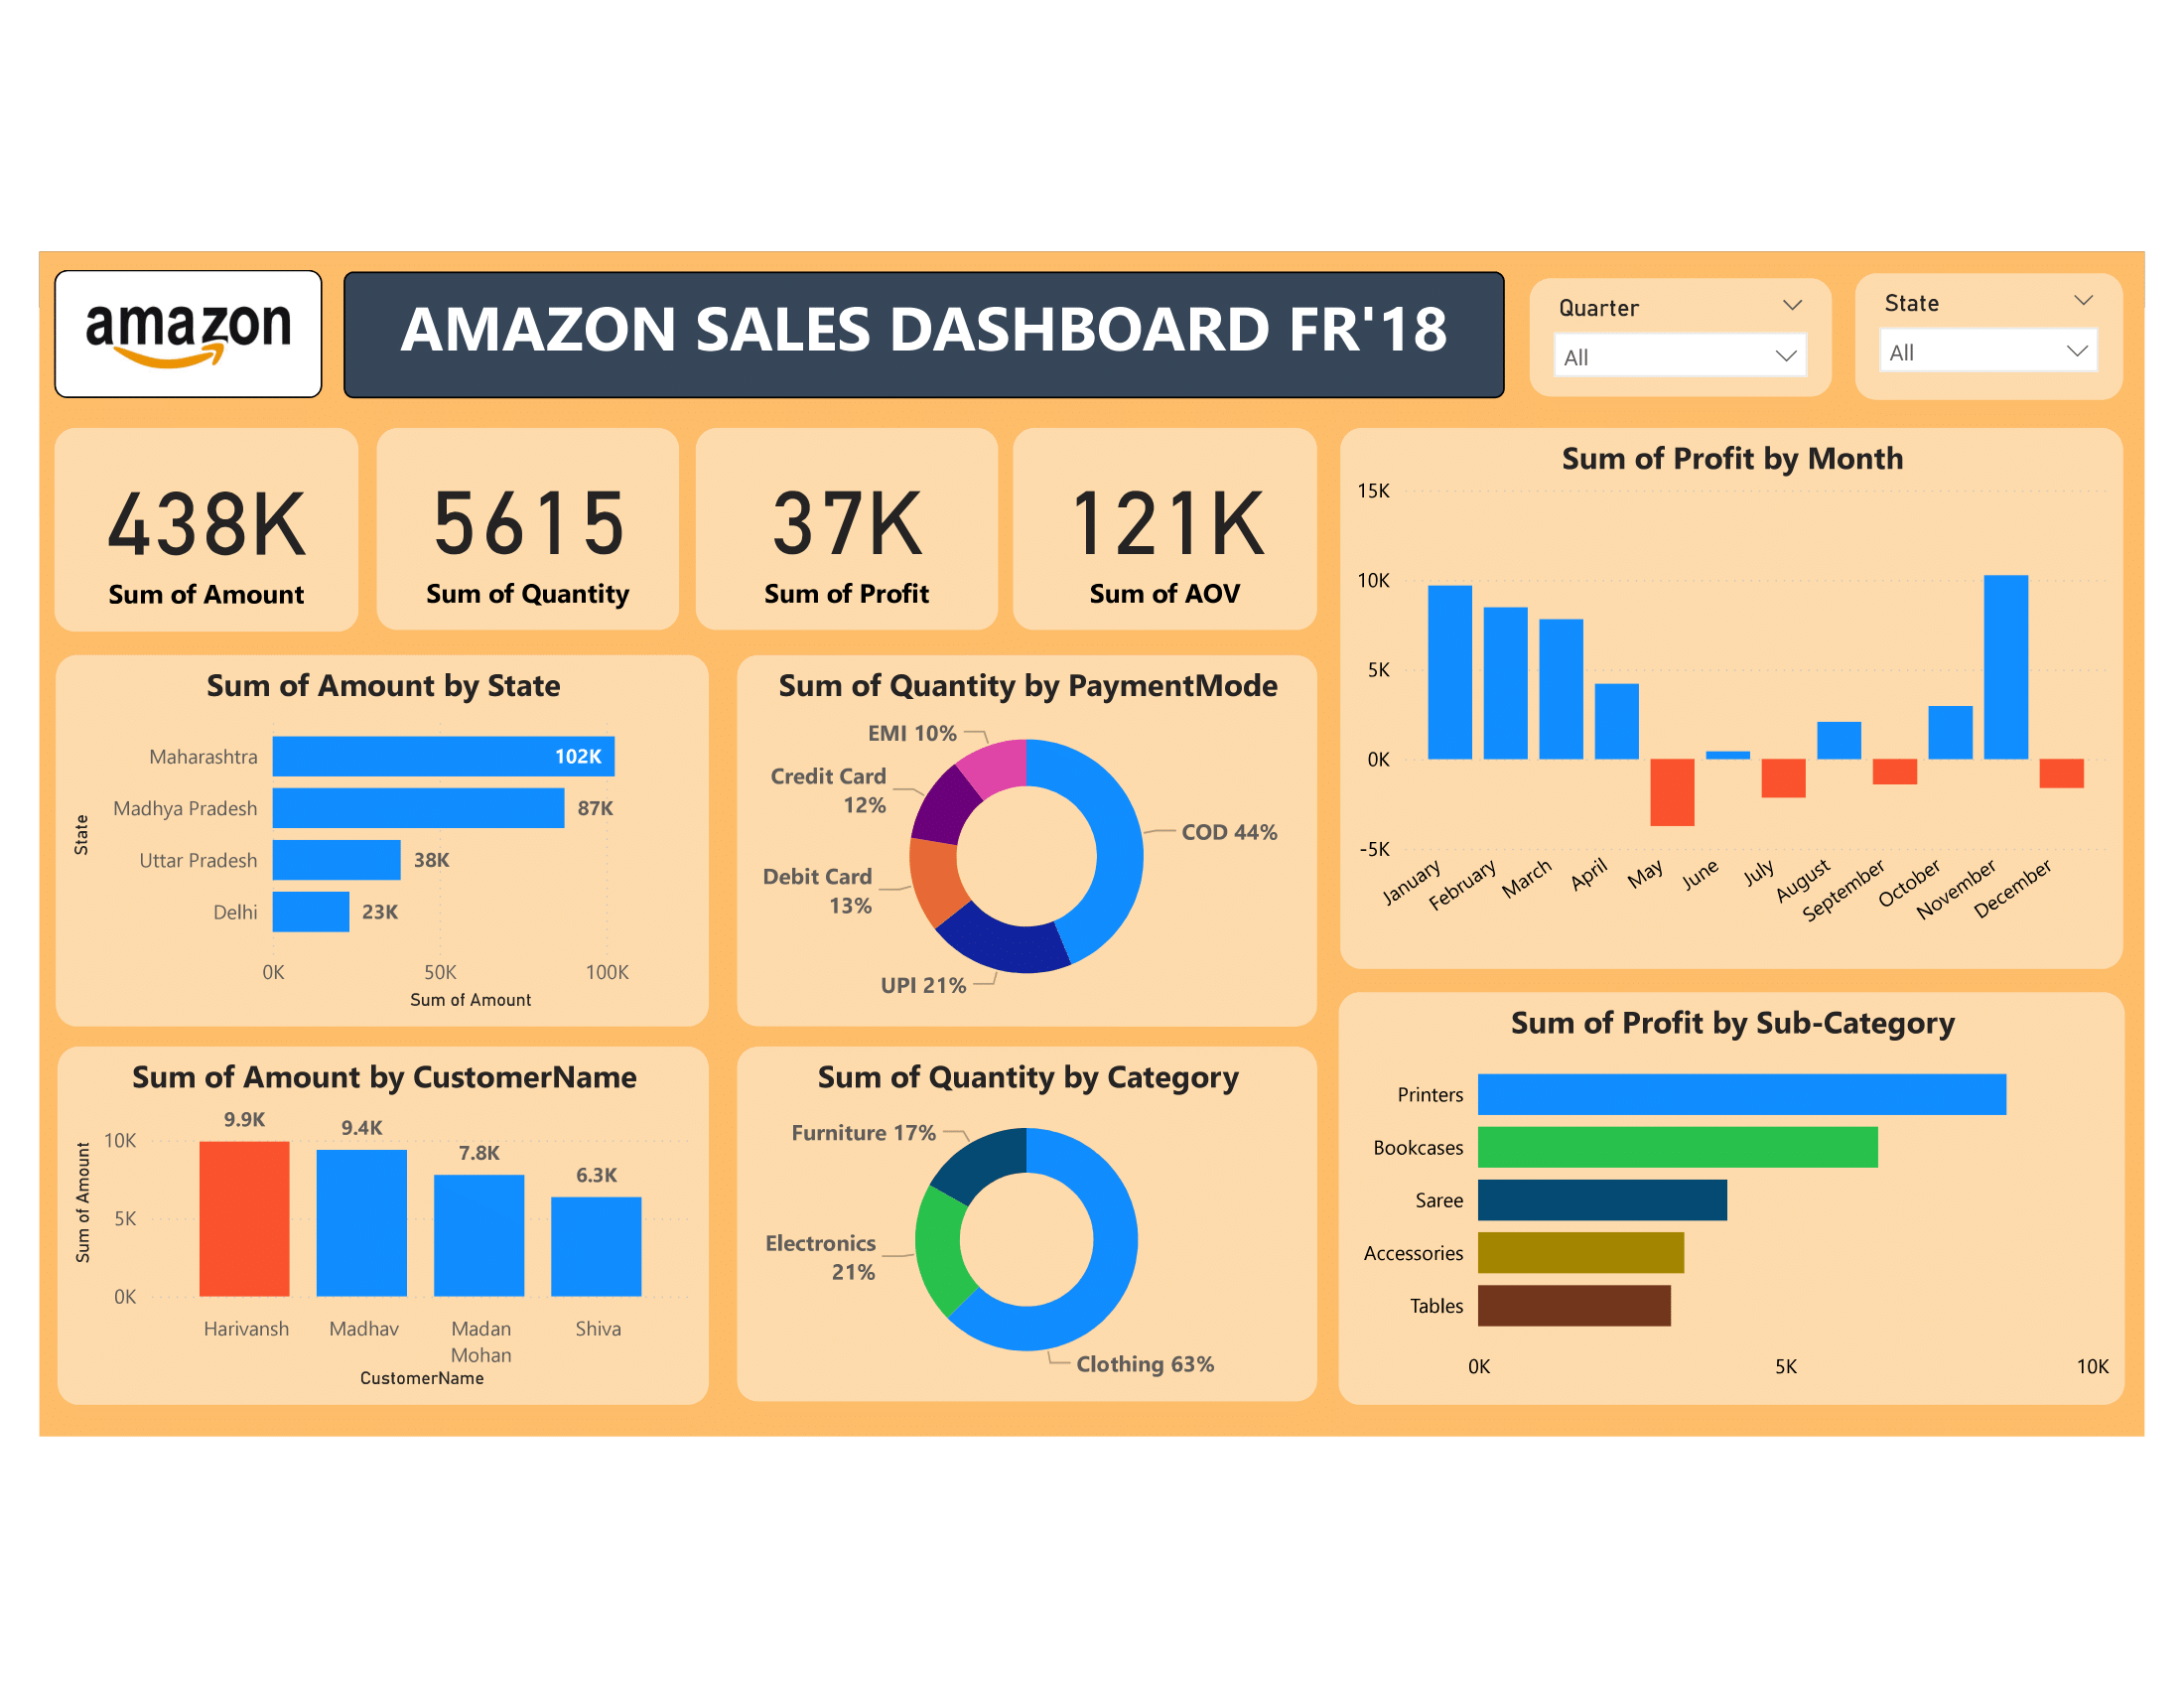

The page's visual inventory and layout, read from the dashboard file:
{"tool":"powerbi","page":{"name":"Page 1","canvas":[1280,720],"ordinal":0},"visuals":[{"type":"textbox","box":[184.6,12.1,706.7,77.2],"z":0},{"type":"columnChart","fields":{"Y":["Details.Profit"],"Category":["Orders.Order Date.Variation.Date Hierarchy.Month"]},"box":[790,105.9,478.2,331.4],"z":1000},{"type":"image","box":[8.9,11.5,163.5,77.9],"z":2000},{"type":"barChart","fields":{"Y":["Details.Profit"],"Category":["Details.Sub-Category"]},"box":[789.4,449.3,479.4,252.6],"z":3000},{"type":"donutChart","fields":{"Category":["Details.Category"],"Y":["Details.Quantity"]},"box":[423.4,482.3,354.5,218.2],"z":4000},{"type":"donutChart","fields":{"Category":["Details.PaymentMode"],"Y":["Details.Quantity"]},"box":[423.4,244,354.5,228.2],"z":5000},{"type":"card","fields":{"Values":["Details.Amount"]},"box":[8.4,106.2,187,125.5],"z":6000},{"type":"card","fields":{"Values":["Details.Quantity"]},"box":[203.8,106.2,186.6,124.9],"z":7000},{"type":"card","fields":{"Values":["Details.Profit"]},"box":[397.6,106.2,186.6,124.9],"z":8000},{"type":"card","fields":{"Values":["Details.AOV"]},"box":[591.3,106.2,186.6,124.9],"z":9000},{"type":"clusteredBarChart","fields":{"Category":["Orders.State"],"Y":["Details.Amount"]},"box":[8.6,244,399,228.2],"z":10000},{"type":"columnChart","fields":{"Category":["Orders.CustomerName"],"Y":["Details.Amount"]},"box":[10,482.3,397.6,219.6],"z":11000},{"type":"slicer","fields":{"Values":["Orders.Order Date.Variation.Date Hierarchy.Quarter"]},"box":[905,15.1,186.1,74.2],"z":12000},{"type":"slicer","fields":{"Values":["Orders.State"]},"box":[1103.2,12.1,165,78.7],"z":13000}]}

Visuals, with their boxes on the page's 1280x720 design canvas (x1, y1, x2, y2). These are canvas units, not pixel positions in the 2184x1688 screenshot, which may show the page scaled, cropped or inside an application window:
textbox: <region>185, 12, 891, 89</region>
columnChart - Details.Profit x Orders.Order Date.Variation.Date Hierarchy.Month: <region>790, 106, 1268, 437</region>
image: <region>9, 12, 172, 89</region>
barChart - Details.Profit x Details.Sub-Category: <region>789, 449, 1269, 702</region>
donutChart - Details.Category x Details.Quantity: <region>423, 482, 778, 700</region>
donutChart - Details.PaymentMode x Details.Quantity: <region>423, 244, 778, 472</region>
card - Details.Amount: <region>8, 106, 195, 232</region>
card - Details.Quantity: <region>204, 106, 390, 231</region>
card - Details.Profit: <region>398, 106, 584, 231</region>
card - Details.AOV: <region>591, 106, 778, 231</region>
clusteredBarChart - Orders.State x Details.Amount: <region>9, 244, 408, 472</region>
columnChart - Orders.CustomerName x Details.Amount: <region>10, 482, 408, 702</region>
slicer - Orders.Order Date.Variation.Date Hierarchy.Quarter: <region>905, 15, 1091, 89</region>
slicer - Orders.State: <region>1103, 12, 1268, 91</region>
